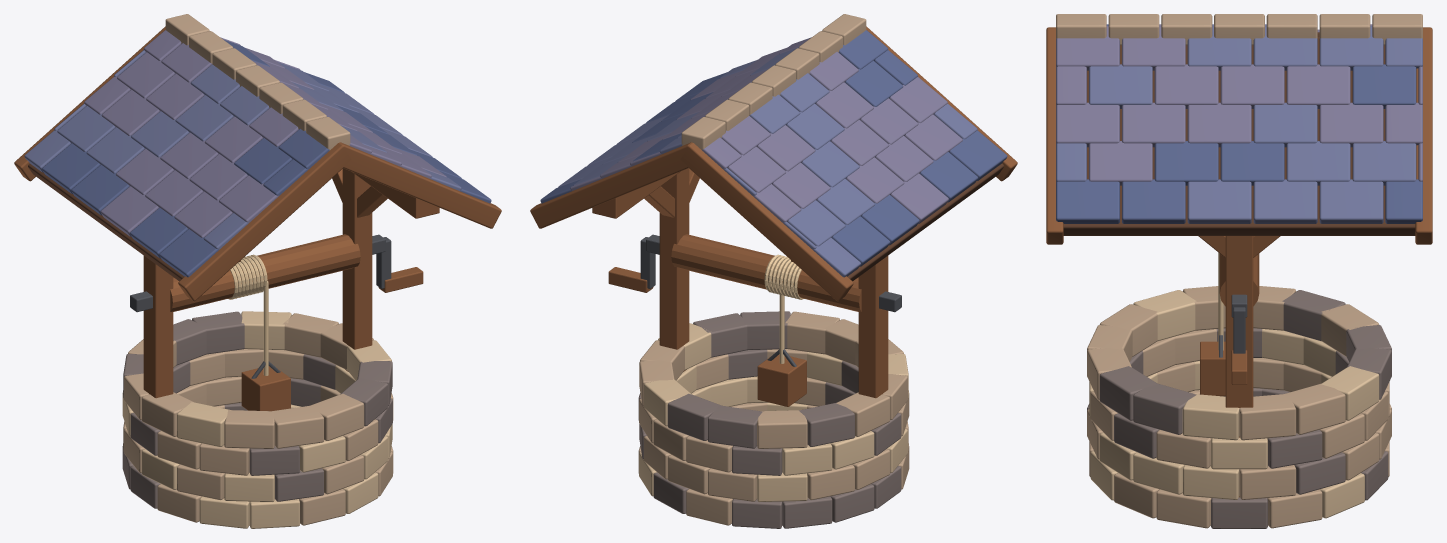
File: ashwick-roofed-well.meshopt.glb
3 views of the same model, side by side, from view 1: azimuth 30°, elevation 25°; view 2: azimuth 150°, elevation 25°; view 3: azimuth 270°, elevation 25° (orthographic). The views are drawn at different scales.
Visible parts, largest first — view 1: Well stones.004, Overlapping slate courses.004, Well stones.005, Overlapping slate courses.005, Well stones.003, Overlapping slate courses.003, Carved verge.001, Axle upright.001, Ridge caps.001, Winding drum.001, Bucket.001, Roof decking.001 (+5 smaller); view 2: Overlapping slate courses.004, Well stones.004, Well stones.003, Overlapping slate courses.005, Overlapping slate courses.003, Well stones.005, Carved verge.001, Axle upright.001, Ridge caps.001, Winding drum.001, Bucket.001, Roof decking.001 (+5 smaller); view 3: Well stones.004, Overlapping slate courses.004, Overlapping slate courses.005, Well stones.005, Well stones.003, Overlapping slate courses.003, Ridge caps.001, Roof decking.001, Carved verge.001, Axle upright.001, Bucket.001, Winding drum.001 (+3 smaller).
Part boxes in pixels (x1,y1,x2,y2): Well stones.004: [123, 313, 393, 525]; Overlapping slate courses.004: [84, 30, 446, 237]; Well stones.005: [122, 311, 392, 528]; Overlapping slate courses.005: [24, 50, 461, 249]; Well stones.003: [122, 311, 392, 508]; Overlapping slate courses.003: [42, 39, 491, 277]; Carved verge.001: [14, 26, 501, 301]; Axle upright.001: [143, 168, 372, 398]; Ridge caps.001: [165, 14, 350, 150]; Winding drum.001: [170, 234, 360, 311]; Bucket.001: [241, 366, 290, 411]; Roof decking.001: [28, 163, 184, 281]; Overlapping slate courses.004: [570, 37, 962, 223]; Well stones.004: [638, 311, 909, 525]; Well stones.003: [638, 311, 901, 528]; Overlapping slate courses.005: [558, 47, 977, 277]; Overlapping slate courses.003: [540, 30, 1007, 266]; Well stones.005: [639, 323, 908, 501]; Carved verge.001: [530, 26, 1017, 301]; Axle upright.001: [659, 168, 888, 398]; Ridge caps.001: [681, 14, 866, 150]; Winding drum.001: [671, 234, 861, 311]; Bucket.001: [757, 354, 806, 406]; Roof decking.001: [847, 163, 1003, 281]; Well stones.004: [1087, 286, 1391, 528]; Overlapping slate courses.004: [1056, 24, 1422, 185]; Overlapping slate courses.005: [1056, 24, 1422, 223]; Well stones.005: [1089, 290, 1379, 518]; Well stones.003: [1087, 290, 1391, 528]; Overlapping slate courses.003: [1056, 24, 1422, 223]; Ridge caps.001: [1056, 14, 1422, 45]; Roof decking.001: [1063, 32, 1415, 235]; Carved verge.001: [1046, 27, 1432, 244]; Axle upright.001: [1225, 236, 1253, 497]; Bucket.001: [1200, 341, 1225, 396]; Winding drum.001: [1219, 254, 1259, 306].
Bounding box in the file's own units: 3.16 × 3.74 × 2.93.
